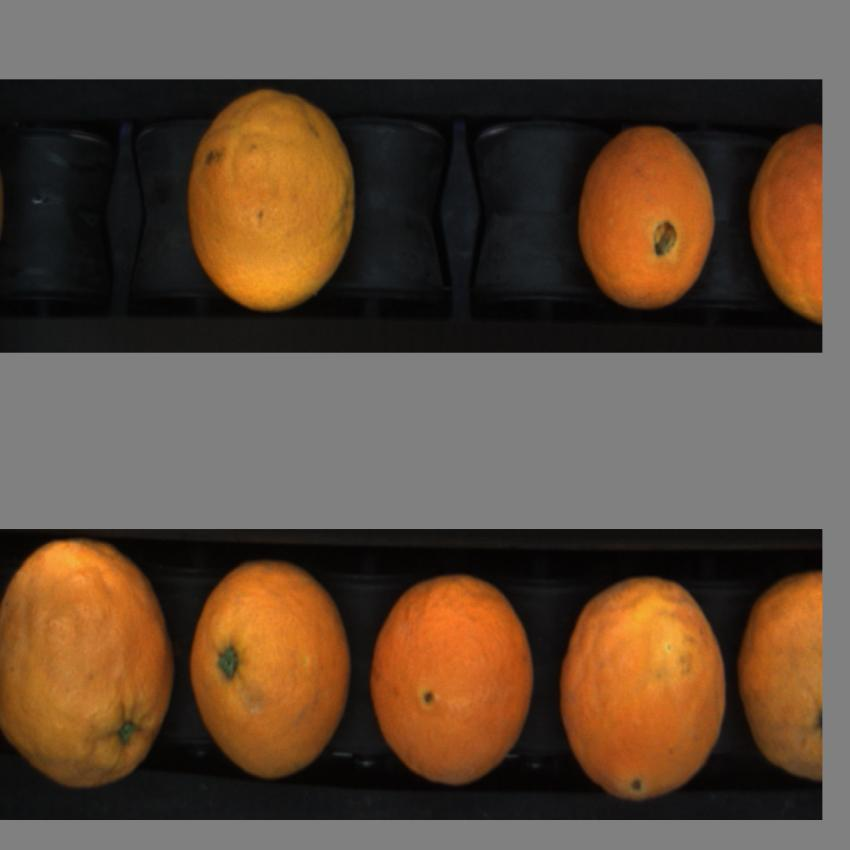Buen estado: (0, 542, 176, 796), (182, 88, 366, 314), (185, 557, 358, 787), (556, 579, 730, 802), (364, 570, 538, 784), (573, 113, 723, 315), (744, 116, 824, 327)
Mal estado: (734, 568, 822, 777)
